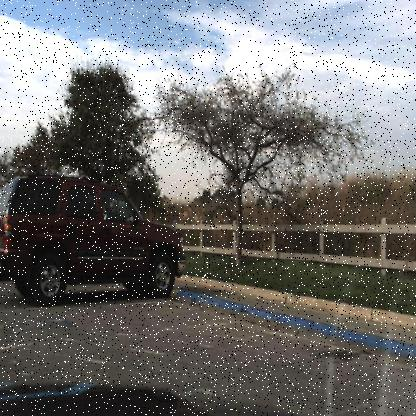car: (0, 172, 190, 306)
